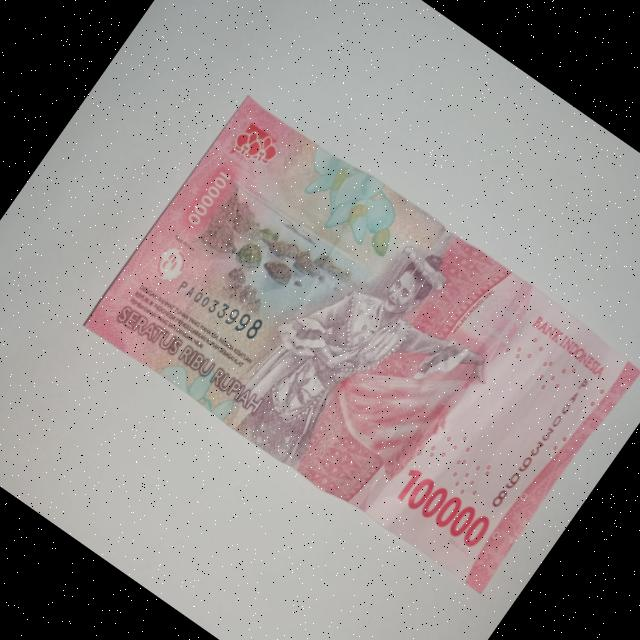100K: (77, 80, 640, 603)
